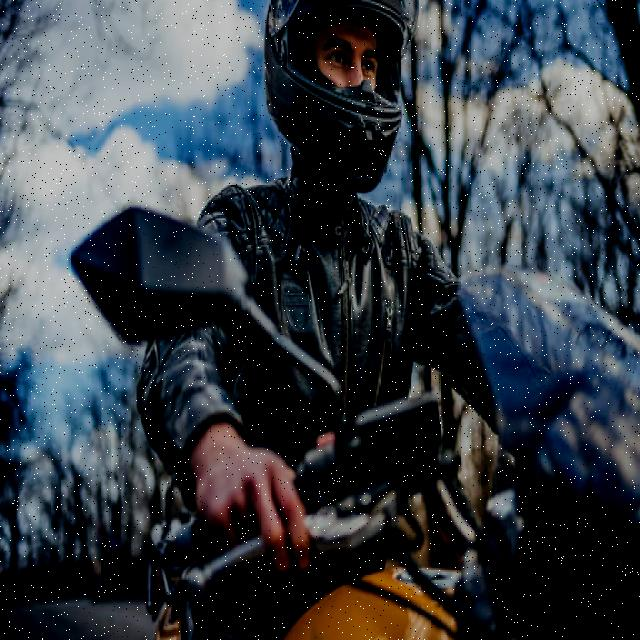not_triplets: (93, 0, 599, 640)
with-helmet: (261, 0, 435, 197)
